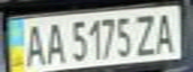1: (84, 16, 103, 60)
5: (66, 17, 87, 62), (115, 14, 136, 58)
7: (100, 15, 118, 58)
A: (18, 20, 48, 68), (151, 9, 181, 54), (42, 19, 69, 66)
Z: (133, 11, 160, 56)
